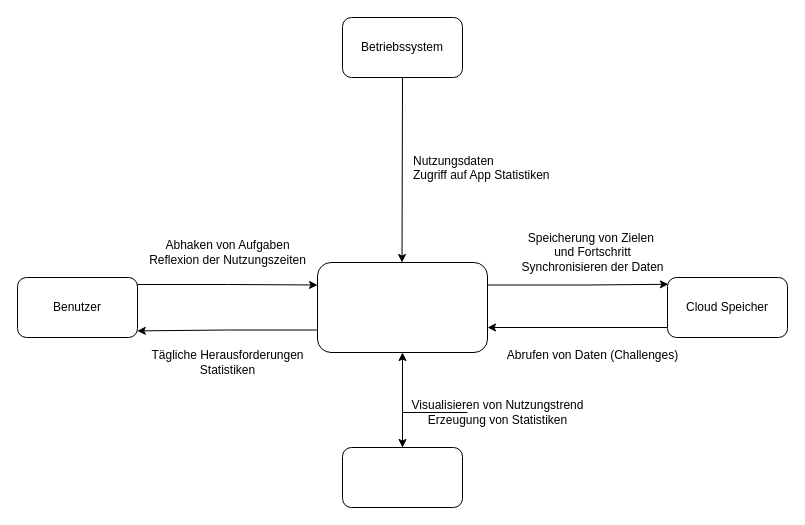
The diagram is 805 pixels wide and 525 high, and some of its shapes have lost their labels. Here are the shapes that lost their labels. From the top down, the box of each, then its label:
(316, 262, 488, 352): Detox App
(342, 446, 462, 508): Datenanalyse (in App eingebunden)
